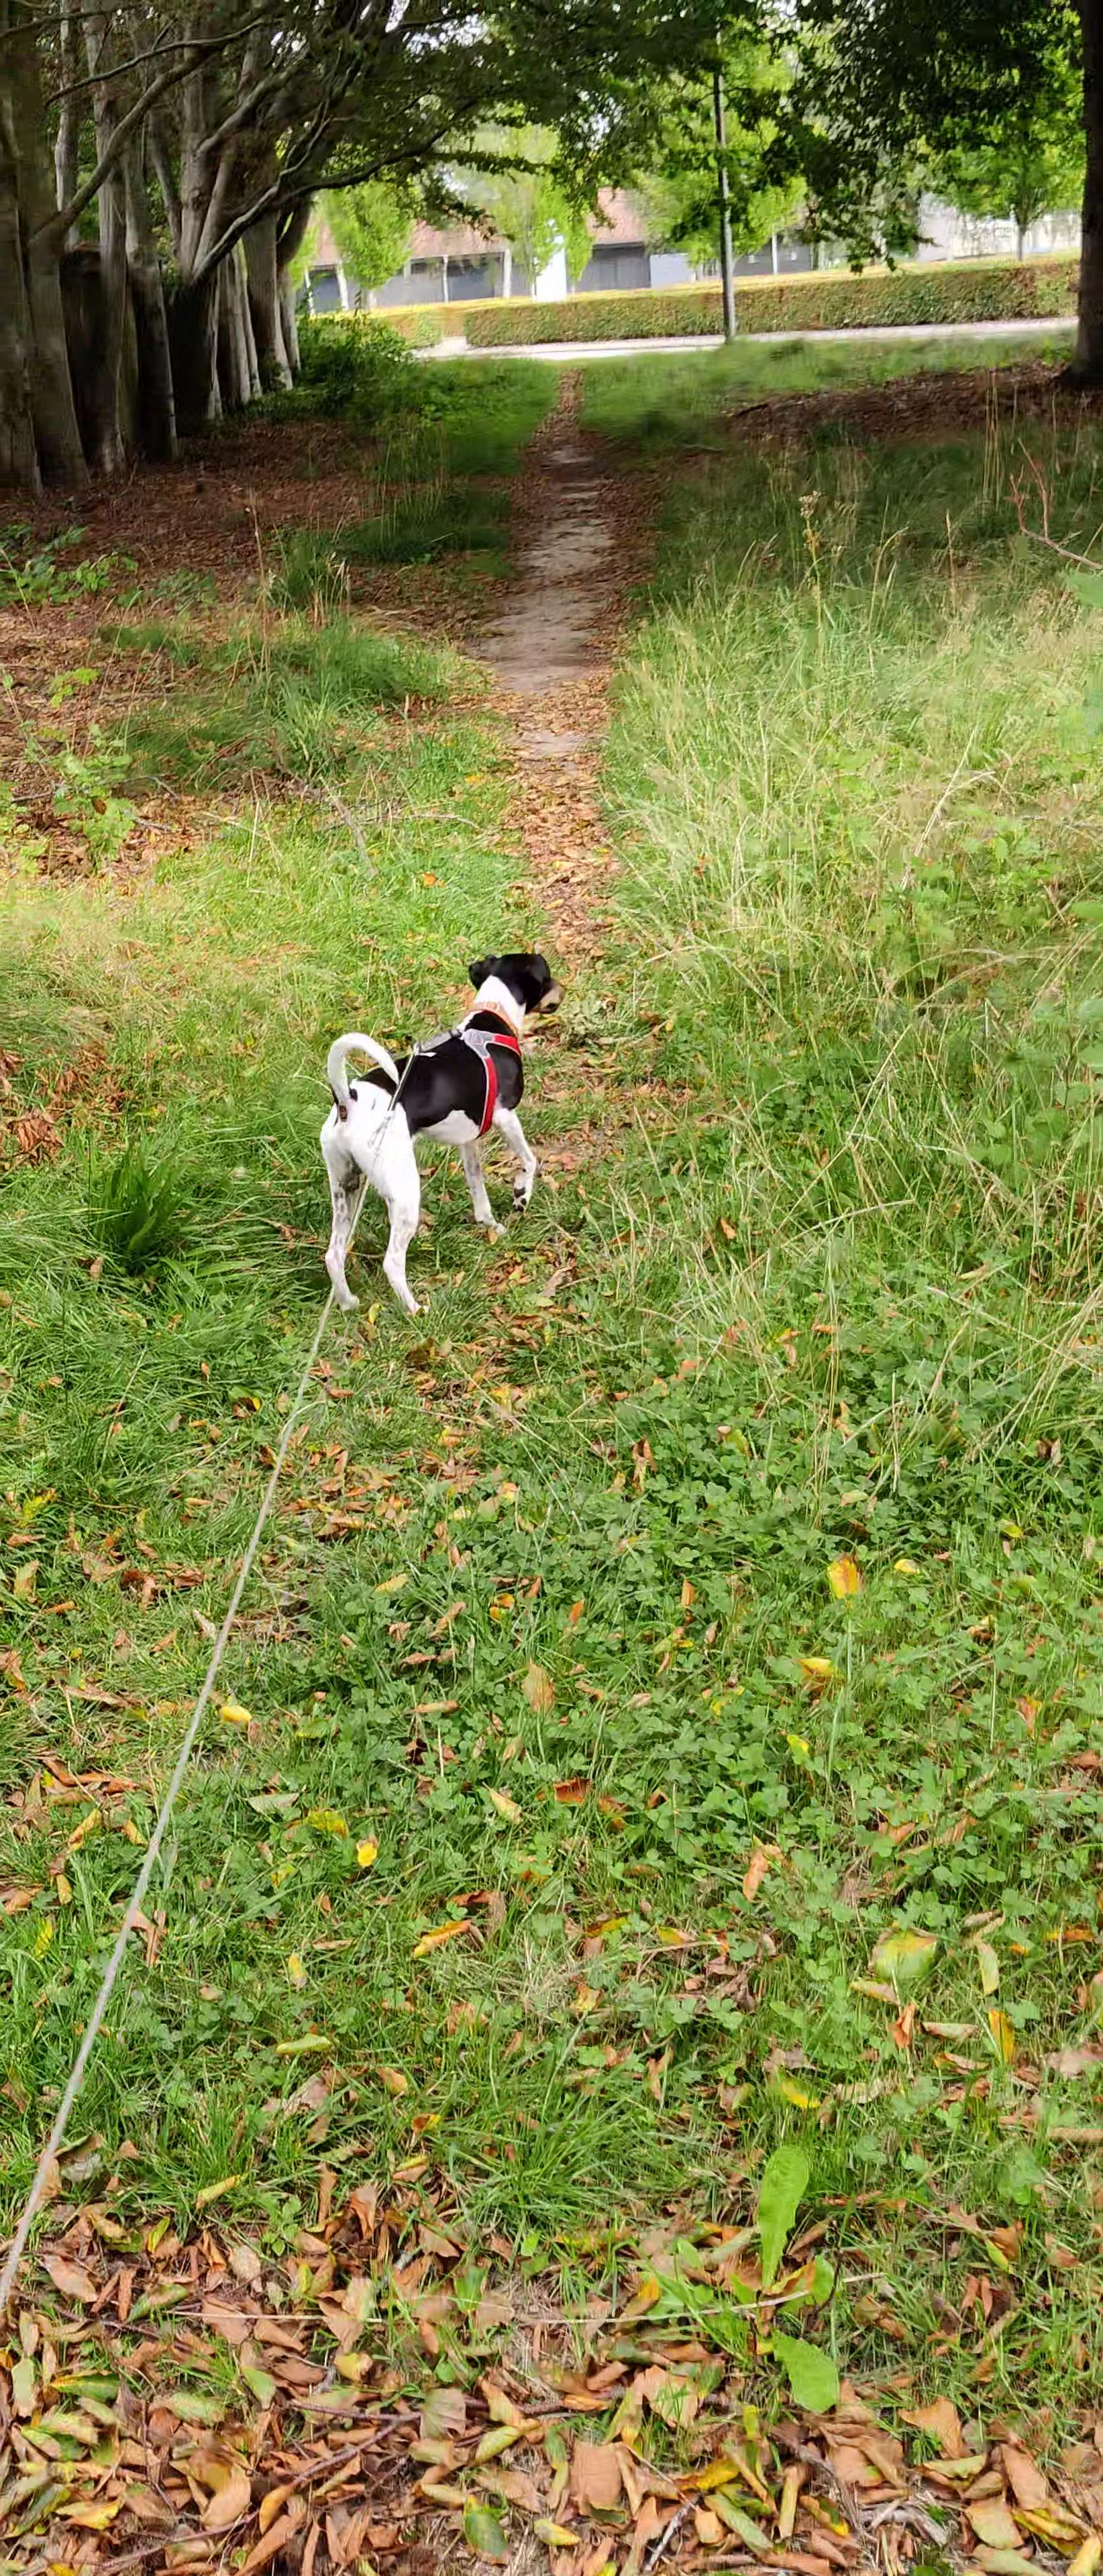Dog: (321, 948, 567, 1318)
